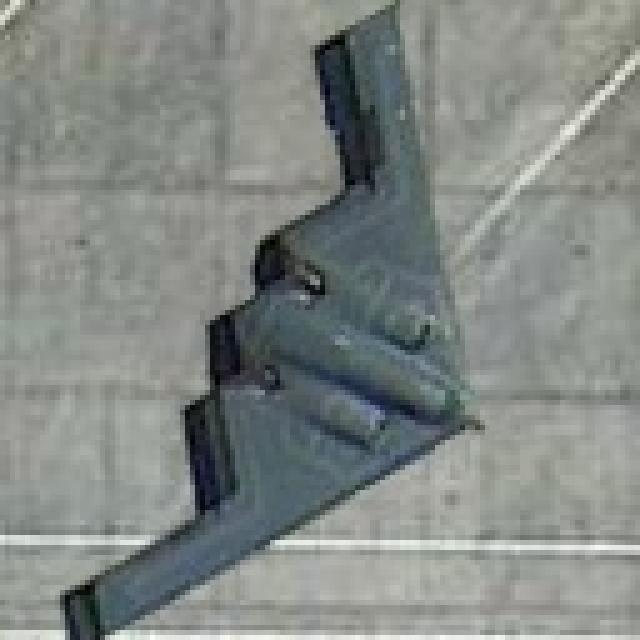B-2_TopDown: (55, 0, 490, 635)
